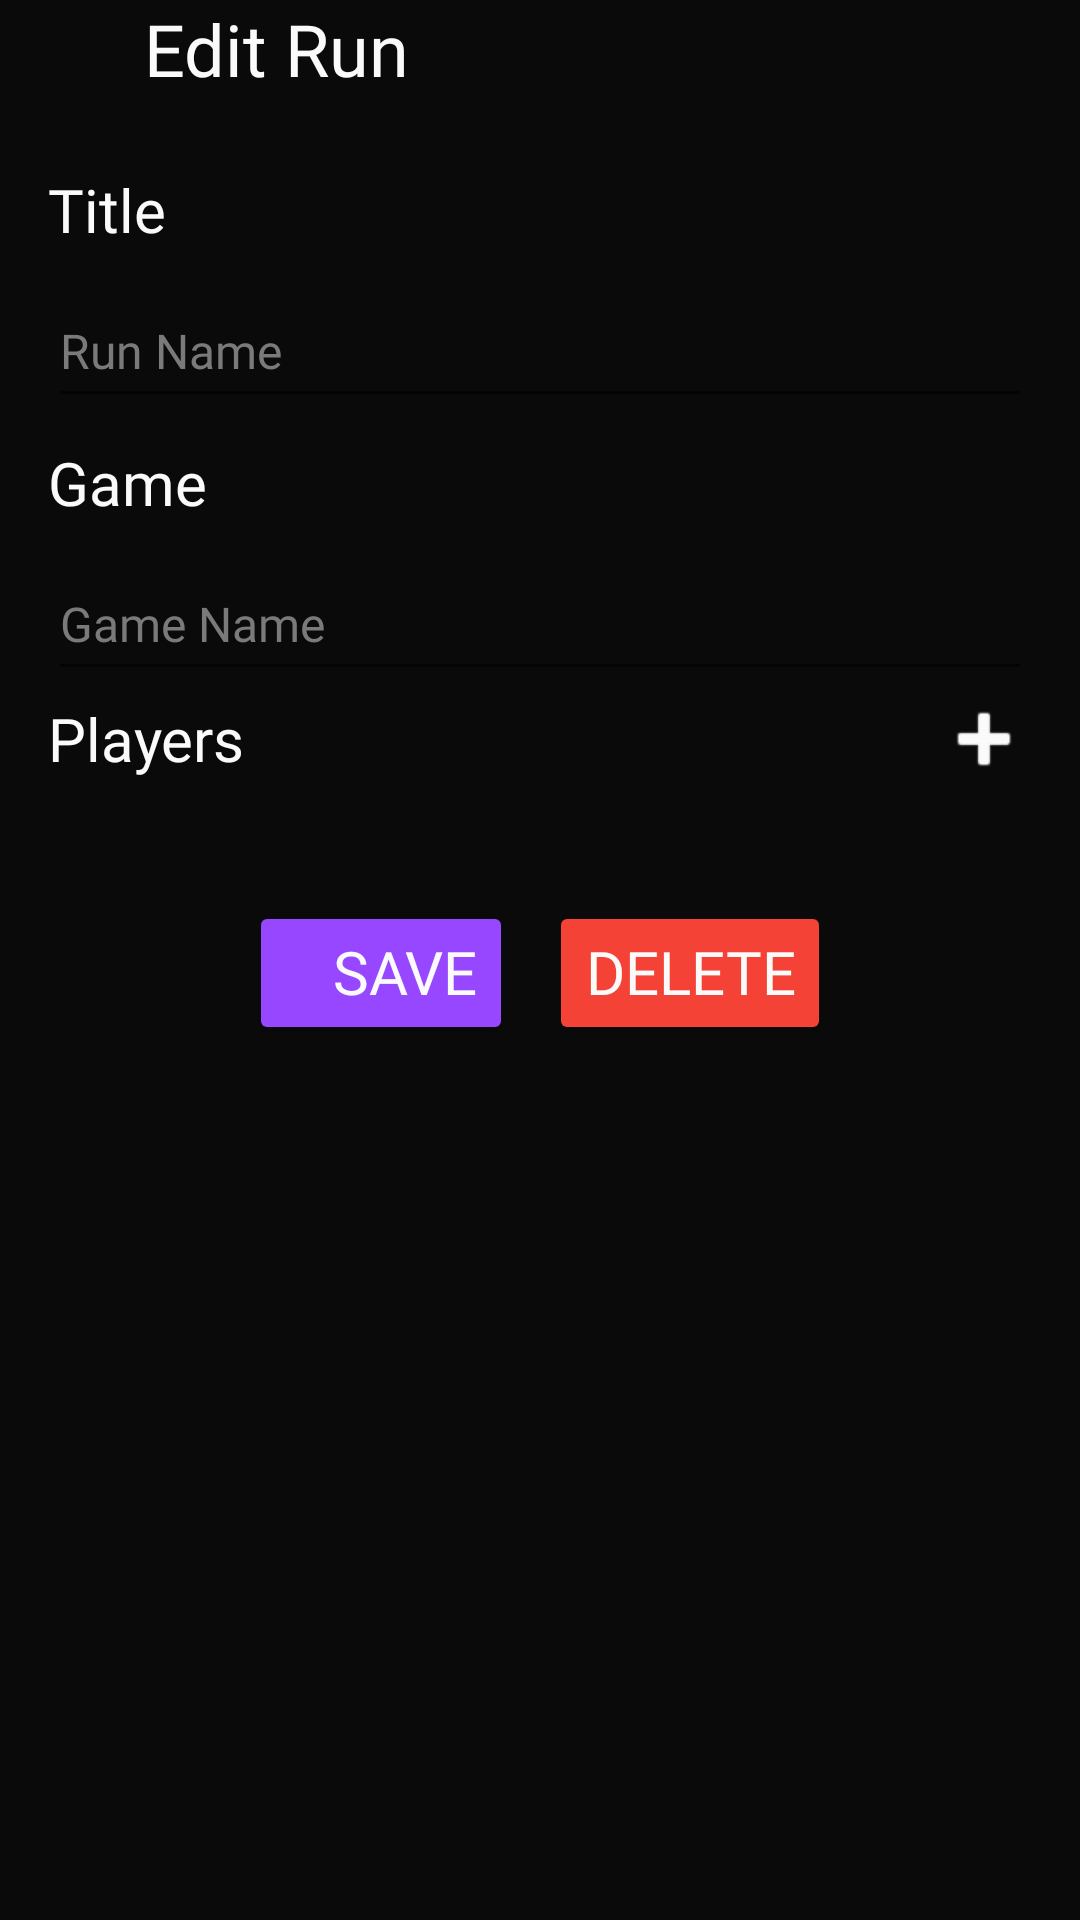

Named icons in this screenshot (1080px x 1920px) and their bounding boxes, (x1,y1,x2,y2):
add: (957,712,1011,766)
